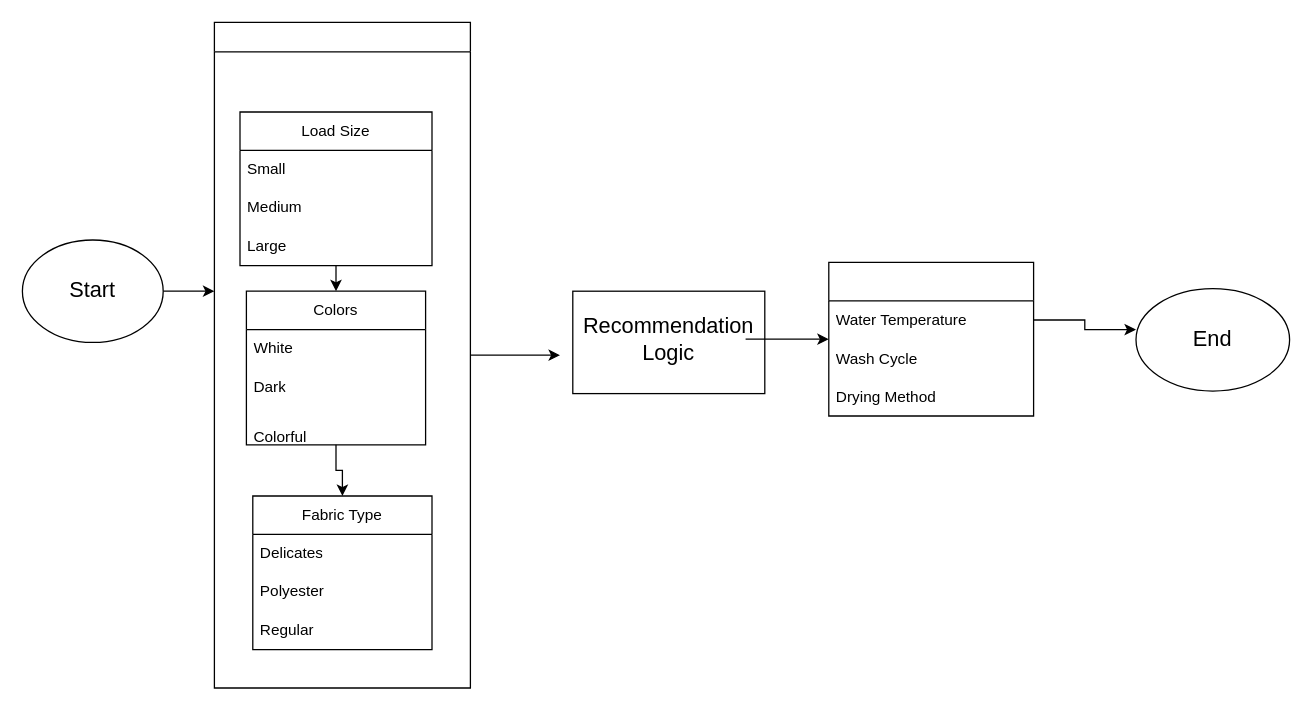
Image size: 1312x710. Some labels were removed from this diagram. Here are the shapes that lost their labels. From the top down, the box of each, then its label:
(213, 21, 470, 688): Input
(828, 261, 1034, 416): Output
